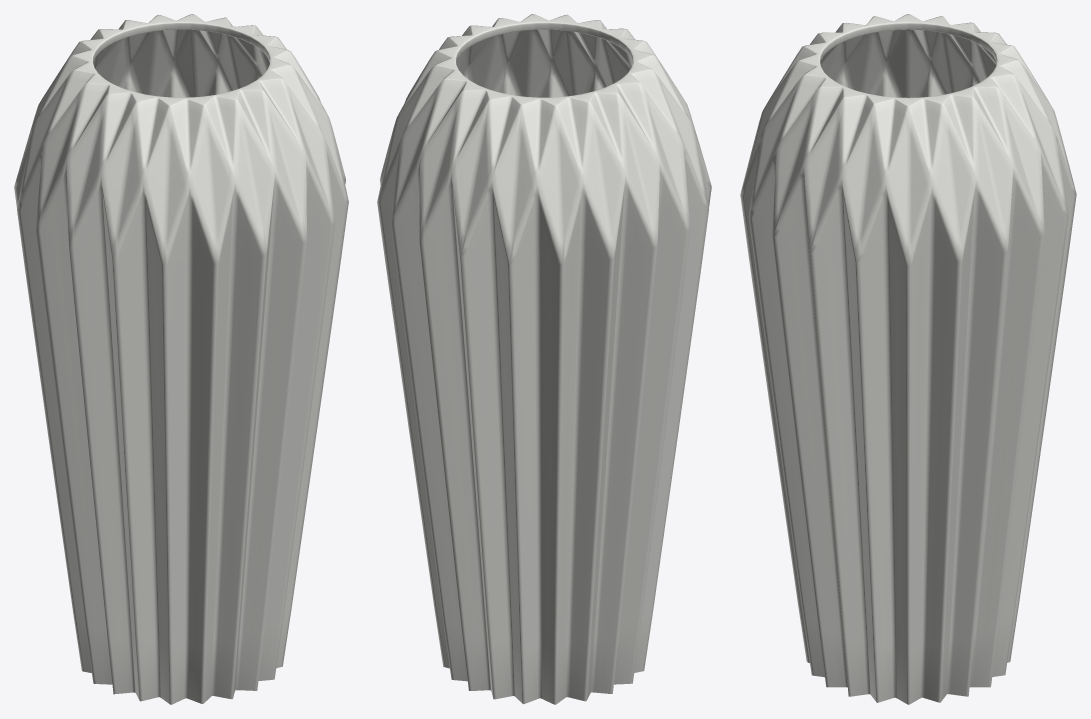
Rendered from B075HWDTMM.glb.
3 renders of one model, left to right at view 1: azimuth 30°, elevation 25°; view 2: azimuth 150°, elevation 25°; view 3: azimuth 270°, elevation 25°, orthographic.
Parts seen in each view (by area): view 1: RootNode; view 2: RootNode; view 3: RootNode.
Boxes of the visible parts, x1,y1,x2,y2 form: RootNode: (14, 14, 348, 704); RootNode: (377, 14, 711, 704); RootNode: (740, 14, 1076, 704).
Size of the model in its own units: 0.1332 by 0.2632 by 0.1332.
1 material, 1 textured.
